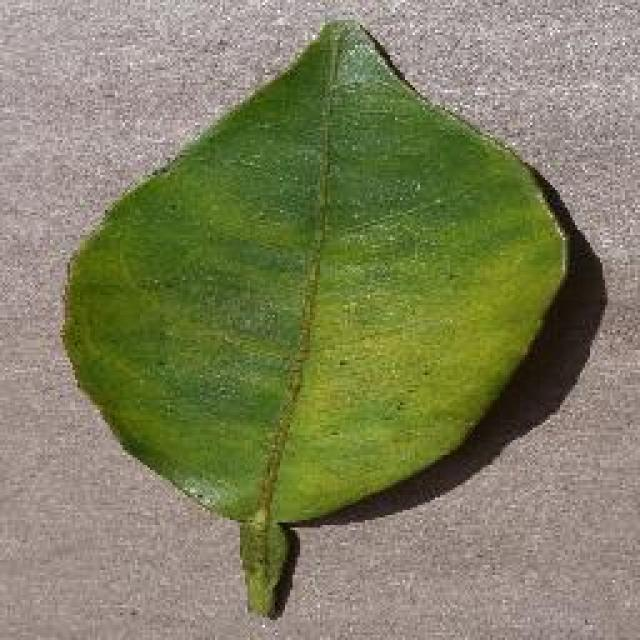Orange_Haunglongbing_Citrus_greening: (129, 128, 501, 482)
